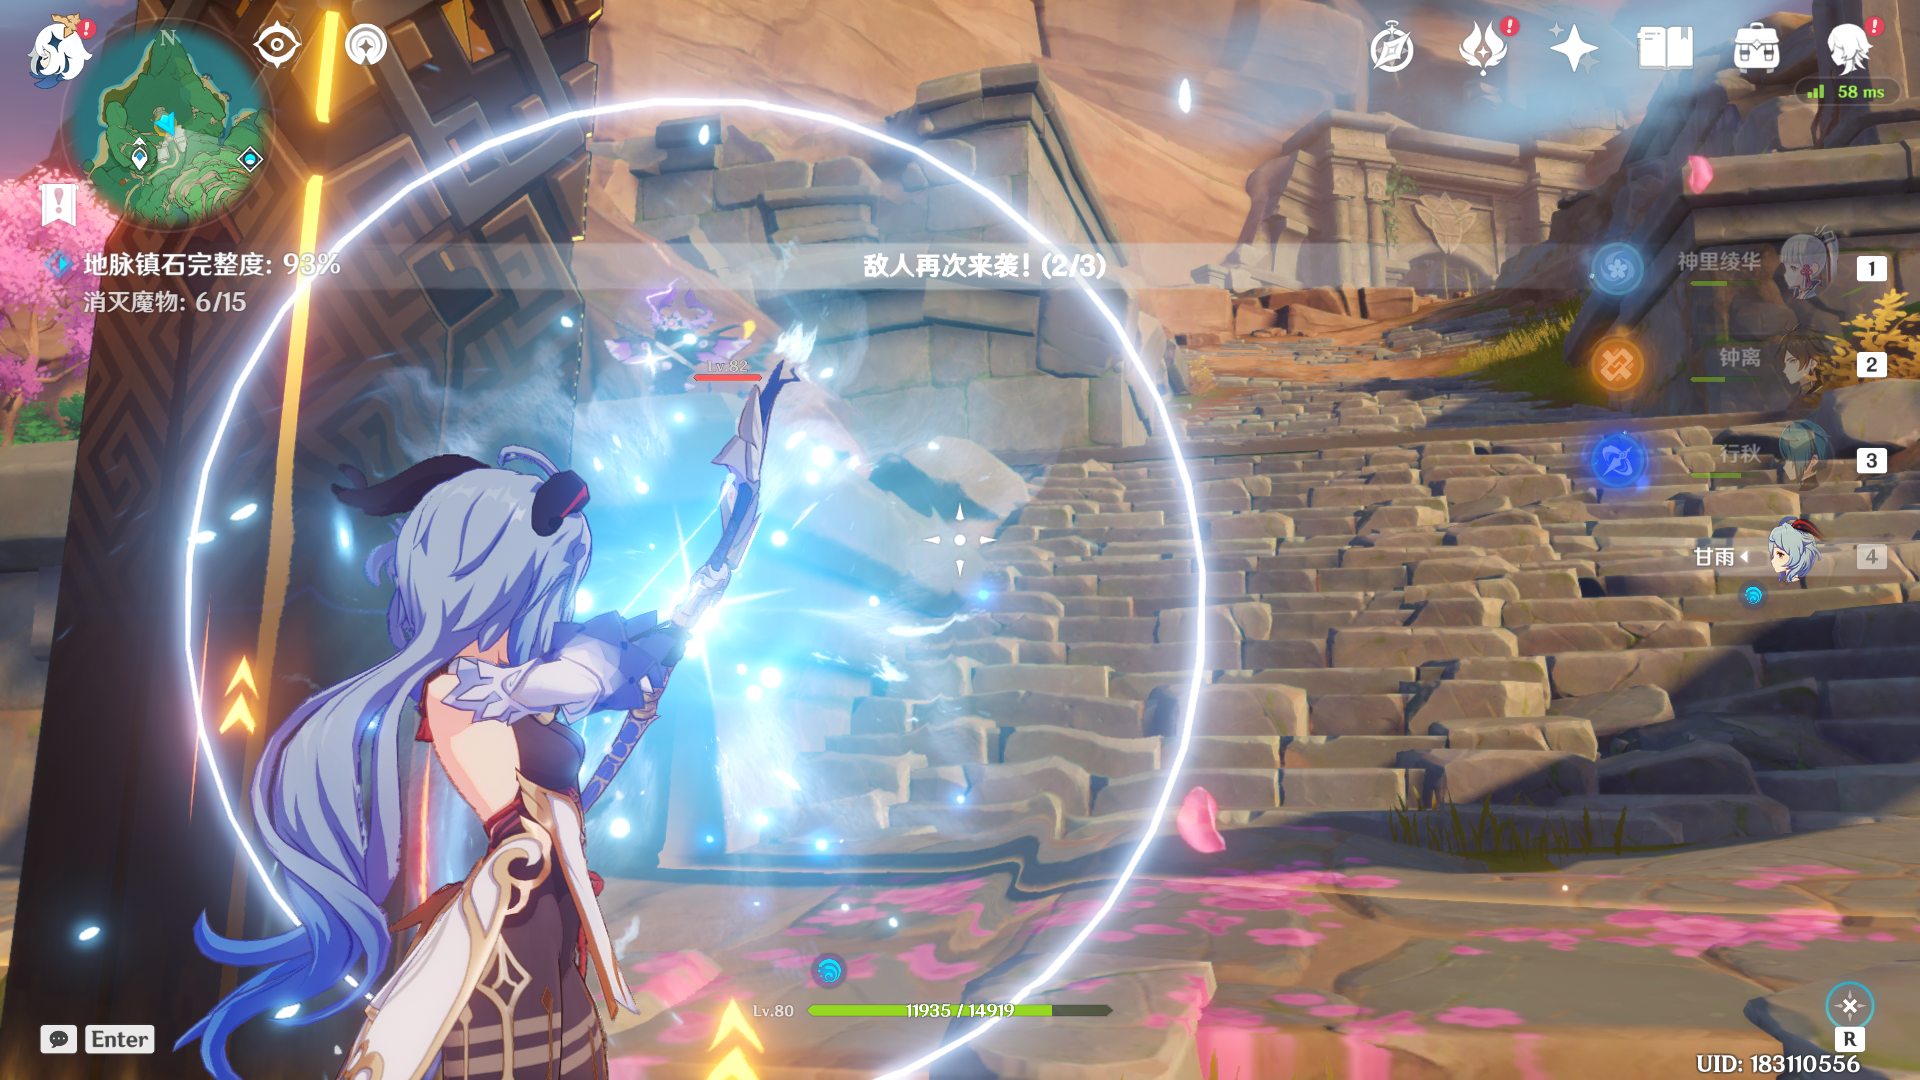character: (170, 398, 698, 1080)
